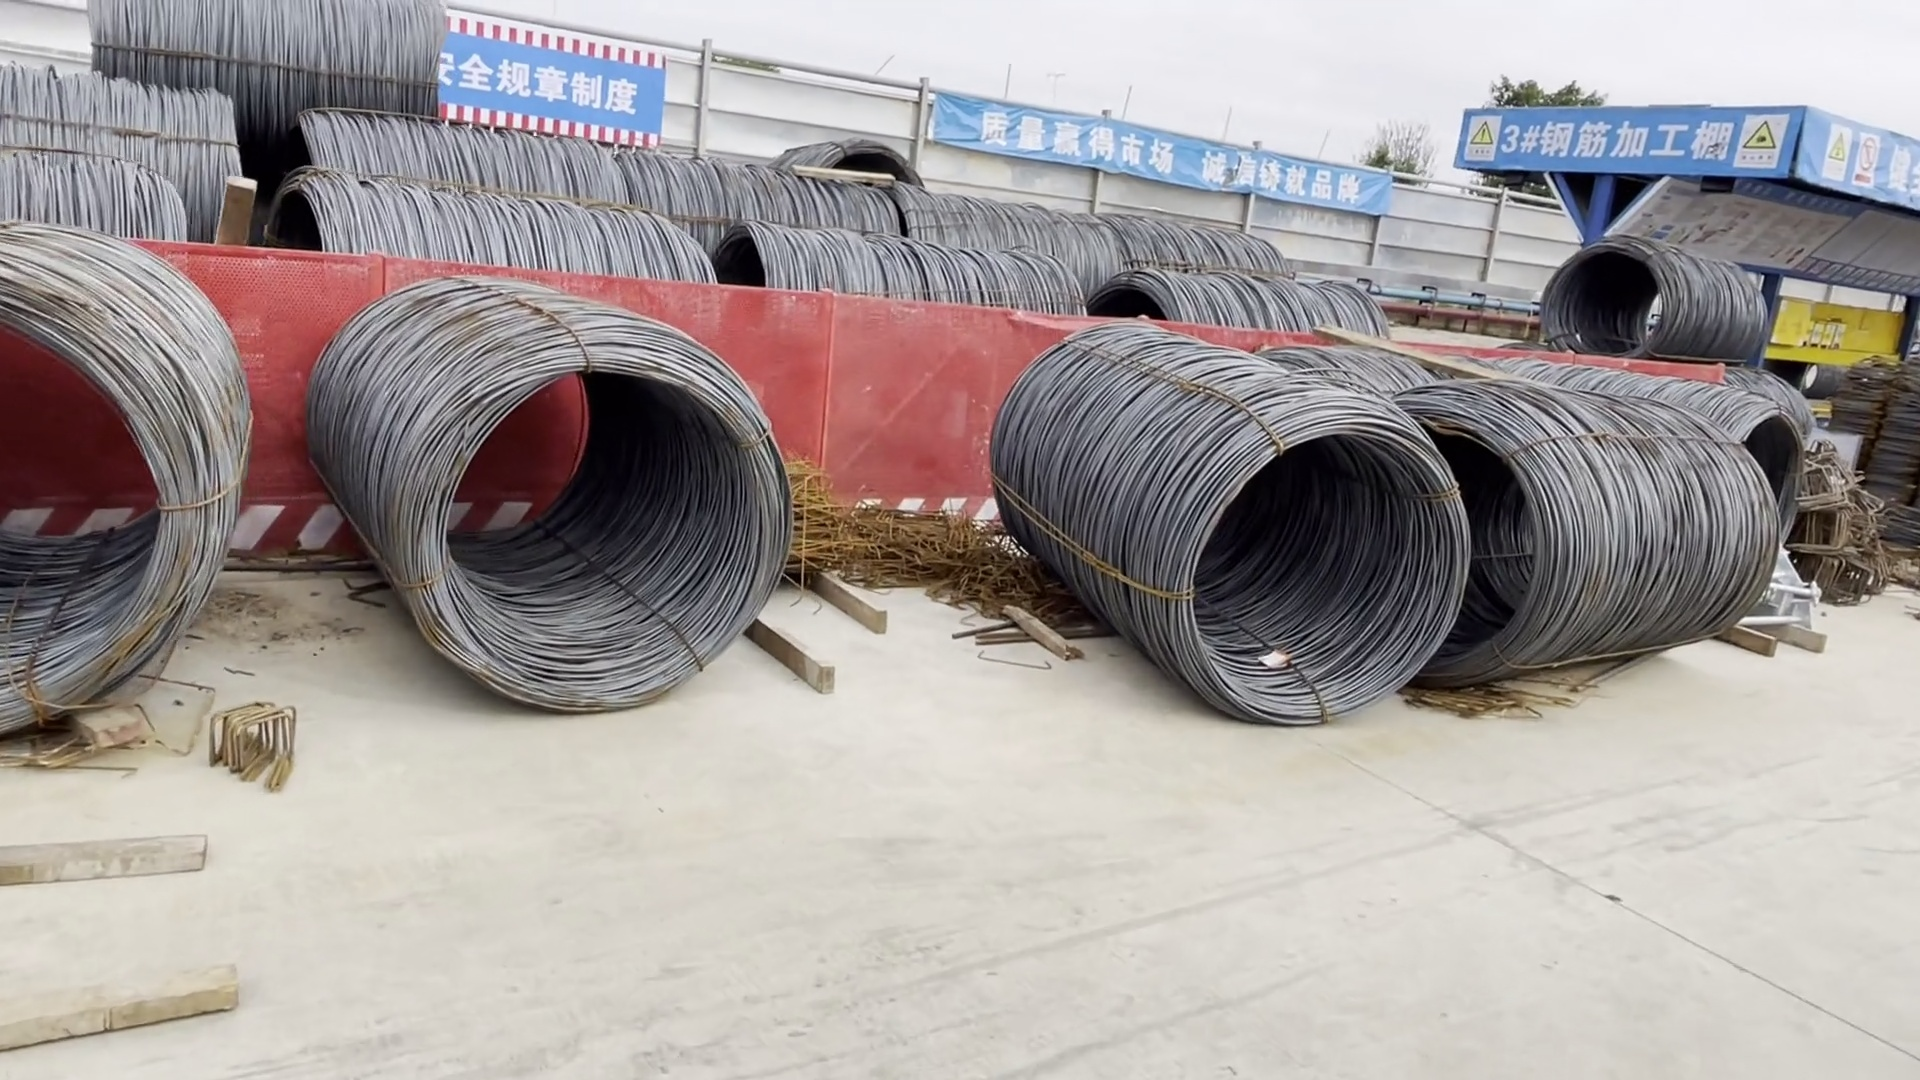fence: (633, 83, 1453, 311)
slogan: (976, 99, 1371, 207), (1472, 102, 1789, 185), (433, 32, 646, 136), (1815, 127, 1920, 189)
